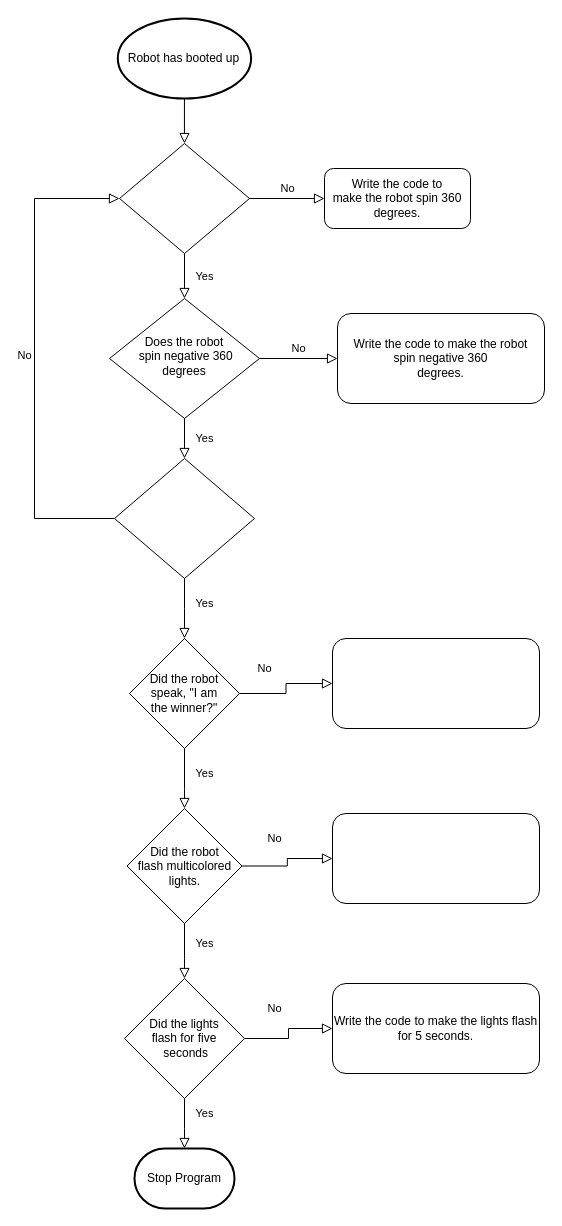
This 562x1226 diagram has some shape labels left out. The centre of each missing label's shape, as x and y in pixels:
Did the robot complete the past two steps, five times?: (x=184, y=518)
Does the robot spin 360 degrees: (x=184, y=198)
Write the code to make the robot flash the lights.: (x=436, y=858)
Write the code to make the robot speak "I am the winner.": (x=436, y=683)
